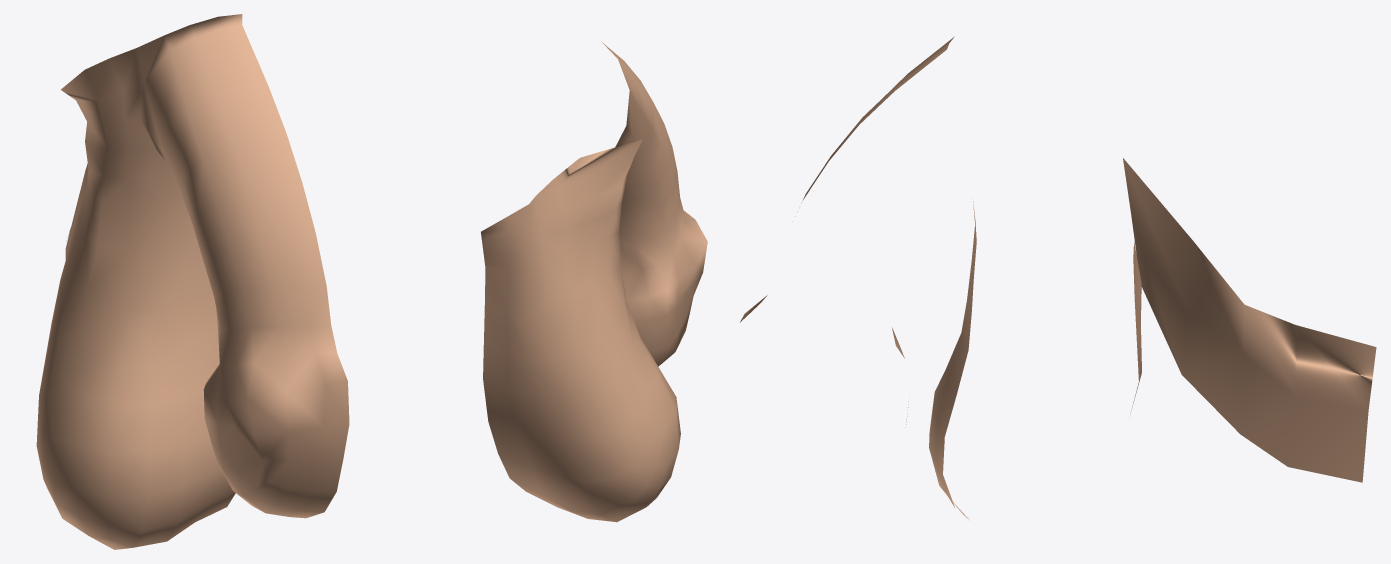
Rendered from urogenital-region-r.glb.
3 renders of one model, left to right at view 1: azimuth 30°, elevation 25°; view 2: azimuth 150°, elevation 25°; view 3: azimuth 270°, elevation 25°, orthographic. The views are drawn at different scales.
Parts seen in each view (by area): view 1: Urogenital region.r; view 2: Urogenital region.r; view 3: Urogenital region.r.
Boxes of the visible parts, x1,y1,x2,y2 form: Urogenital region.r: (36, 14, 349, 549); Urogenital region.r: (481, 42, 707, 522); Urogenital region.r: (740, 36, 1376, 520).
Bounding box in the file's own units: 0.0339 × 0.1146 × 0.1269.
